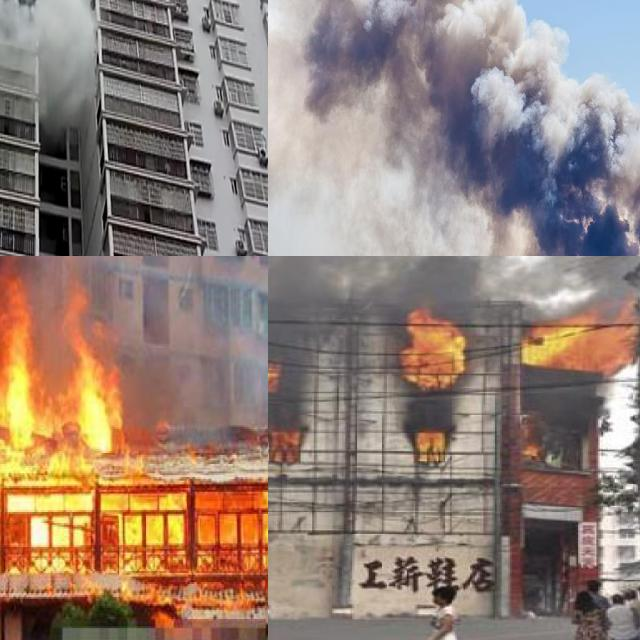fire: (0, 256, 268, 622), (515, 304, 636, 370), (397, 304, 468, 387), (268, 420, 305, 463), (407, 425, 448, 462), (515, 436, 548, 462), (268, 361, 280, 391)
smoke: (268, 0, 640, 256), (268, 256, 640, 423), (0, 256, 258, 438), (33, 0, 99, 139)
